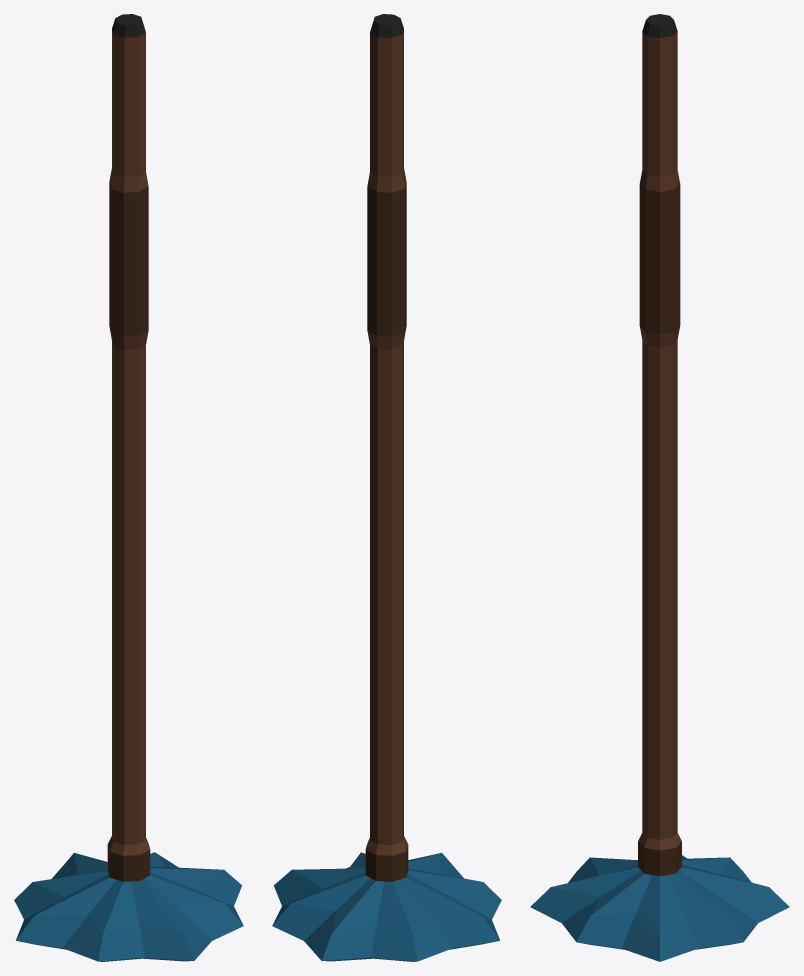
File: MopV2.fbx
The picture shows the model from 3 angles, left to right: view 1: azimuth 30°, elevation 25°; view 2: azimuth 150°, elevation 25°; view 3: azimuth 270°, elevation 25°; orthographic projection.
Parts seen in each view (by area): view 1: MopV2; view 2: MopV2; view 3: MopV2.
Boxes of the visible parts, bbox=[...] form: MopV2: bbox=[14, 14, 243, 961]; MopV2: bbox=[272, 14, 501, 961]; MopV2: bbox=[530, 14, 789, 961].
Size of the model in its own units: 34.52 by 133 by 34.52.
